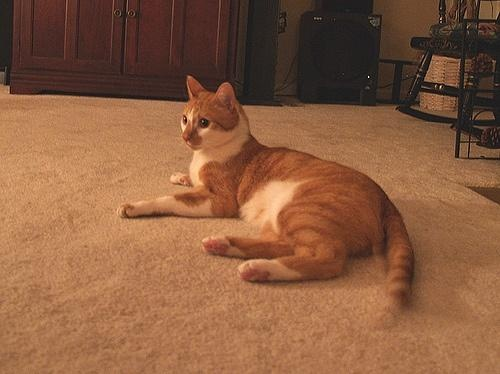cat: (116, 75, 423, 314)
